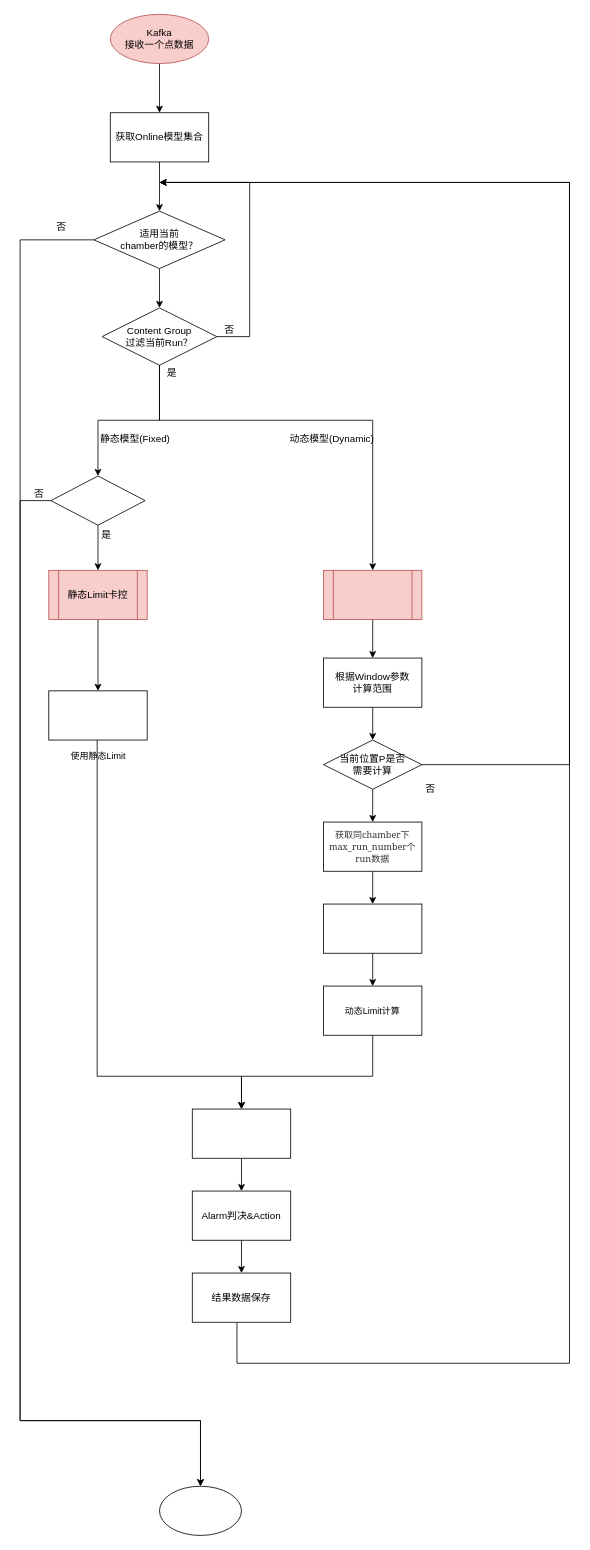
This 590x1550 diagram has some shape labels left out. The shapes that lost their labels are listed below. From the top down, each one's centre as x and y in pixels, then its label:
(97,500): Run是否结束
(372,594): 动态Limit卡控
(97,715): 仿真
(372,928): 位置P异常过滤run
(241,1133): CheckFault
(200,1510): 结束
